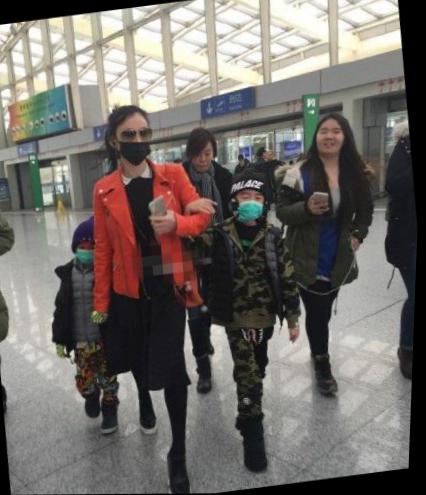NONE: (318, 126, 347, 155), (192, 147, 220, 174)
OK: (236, 185, 269, 223), (77, 241, 101, 266)
WRONG: (116, 124, 157, 167)
